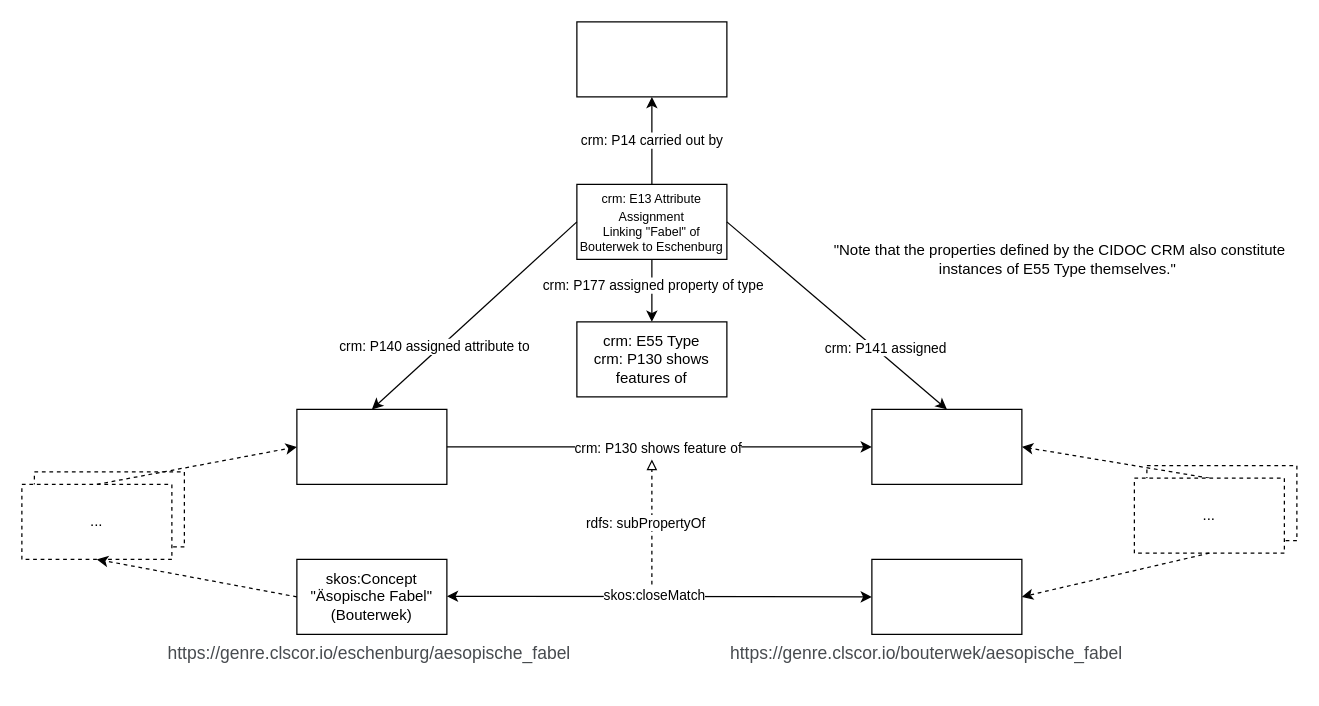
Image size: 1319x706. Some labels were removed from this diagram. Here are the shapes that lost their labels. From the top down, the centre of each, then its label:
point 651,59: crm: E39 Actor Peer Trilcke and Ingo Börner
point 371,446: crm: E28 Conceptual Object "Äsopische Fabel" as understood by B.
point 946,446: crm: E28 Conceptual Object "Aesopische Fabel" as understood by E.
point 946,596: skos:Concept "Aesopische Fabel" (Eschenburg)
